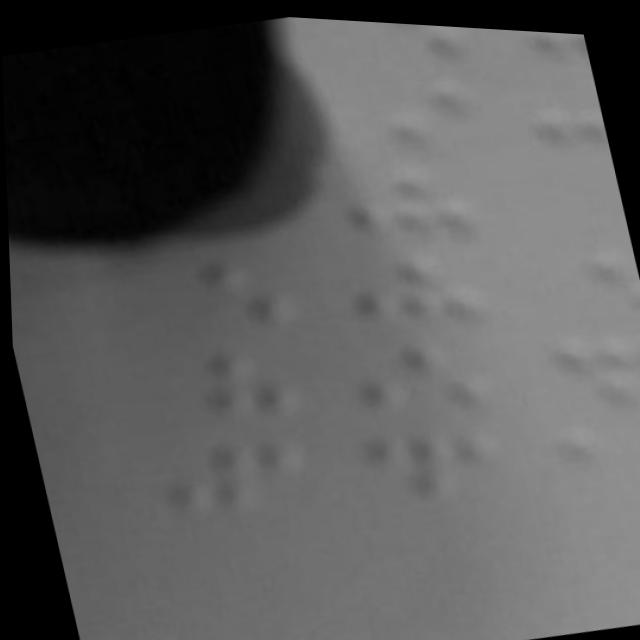braiile: (120, 223, 307, 350), (121, 326, 310, 447), (135, 412, 326, 531), (314, 133, 492, 258), (328, 219, 504, 341), (331, 400, 509, 519), (338, 310, 509, 433), (315, 51, 486, 163), (527, 305, 640, 417), (300, 14, 477, 82)
